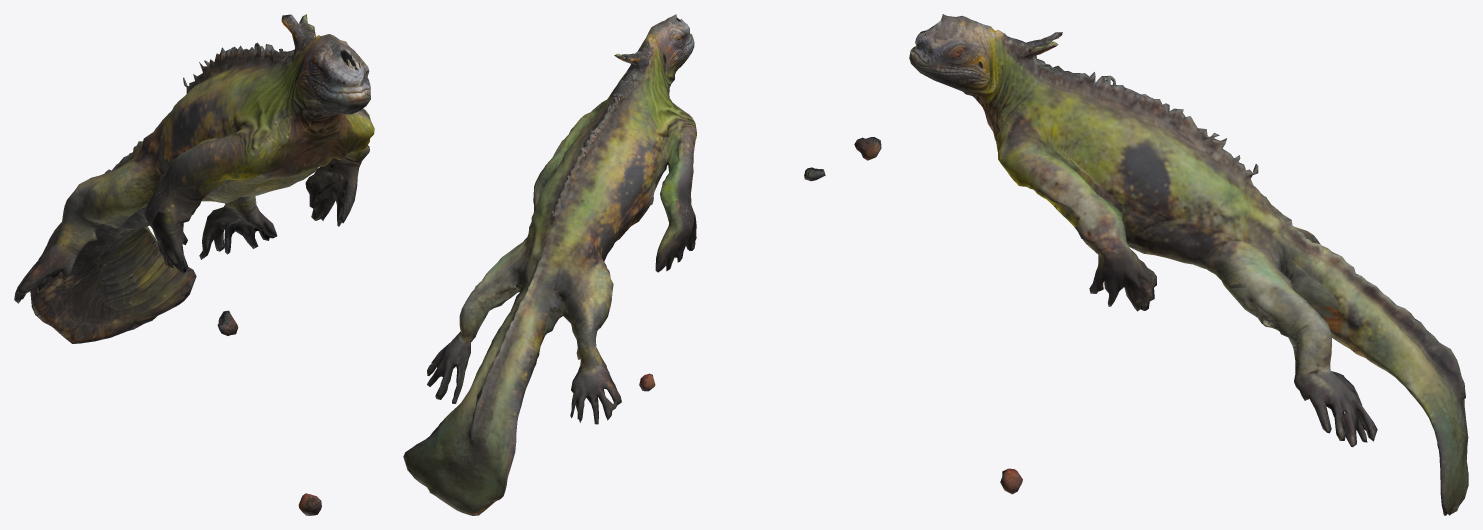
The model's file is _อีกัวนา_0519041443_texture.glb.
3 renders of one model, left to right at view 1: azimuth 30°, elevation 25°; view 2: azimuth 150°, elevation 25°; view 3: azimuth 270°, elevation 25°, orthographic. The views are drawn at different scales.
Bounding box in the file's own units: 0.8498 × 1.35 × 1.57.
Materials: 1 (1 with a texture image).
